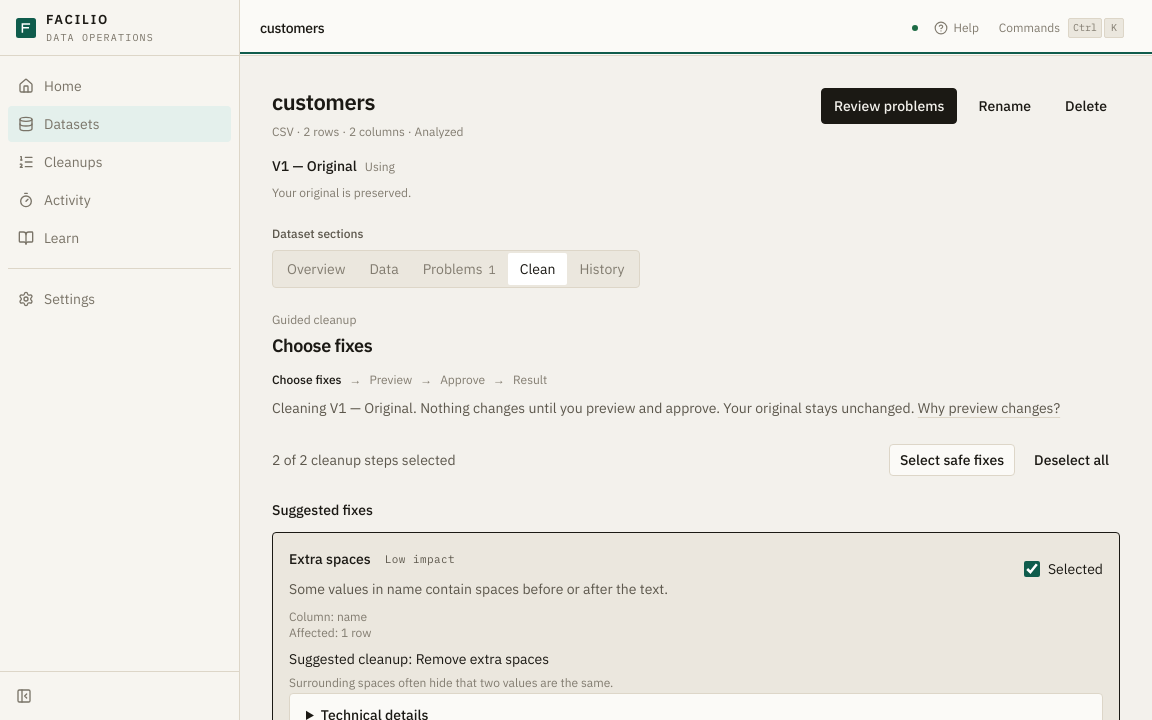
Scenario: empty selection disables preview
Expected: the heading "Choose fixes" is shown, [272,334,372,357]
Click the button "Deselect all" at (1072,460), box [1023,444,1120,476]
(page scrolled)
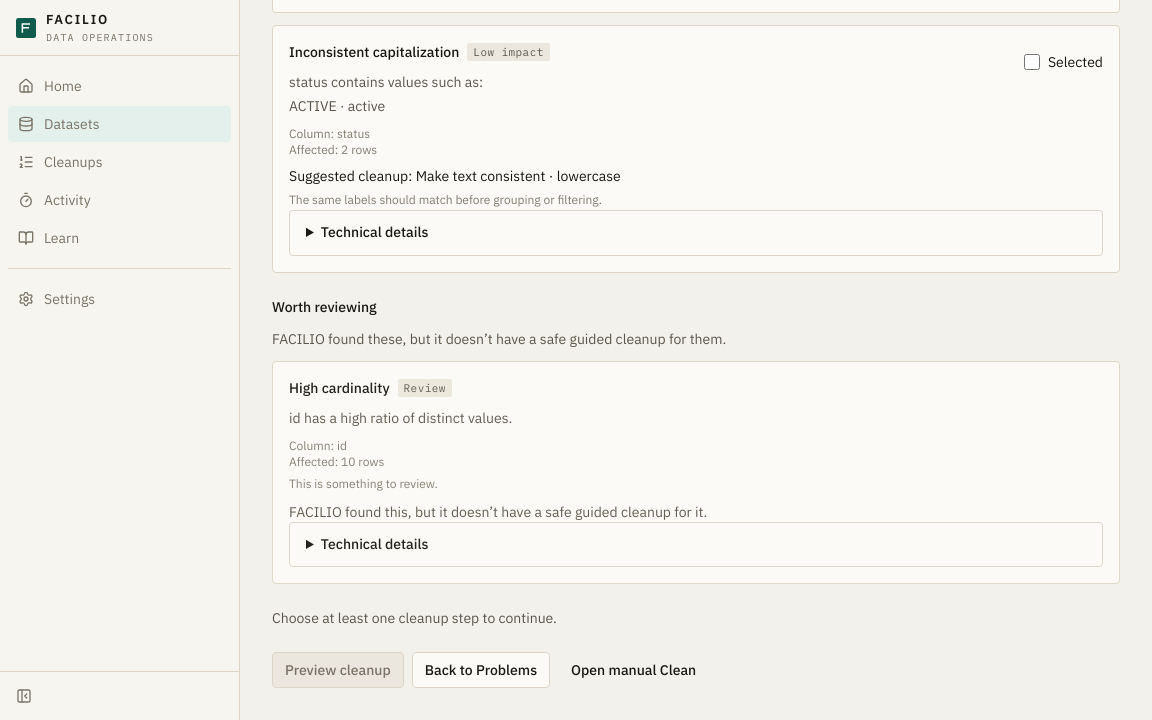
Result: the text "Choose at least one cleanup step to continue." is shown at [272,610,557,628]
Result: the button "Preview cleanup" is disabled at [272,652,404,688]
